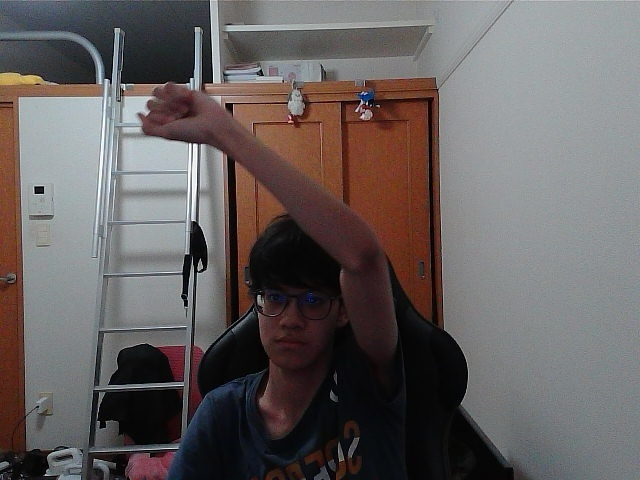closed_palm: (142, 87, 207, 133)
